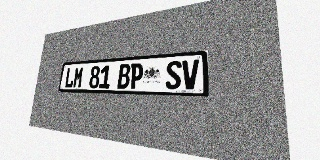1: (99, 65, 111, 88)
8: (89, 66, 101, 88)
B: (117, 64, 131, 89)
L: (64, 67, 75, 88)
M: (73, 67, 84, 88)
P: (129, 63, 144, 89)
S: (165, 60, 182, 89)
V: (182, 59, 199, 90)
